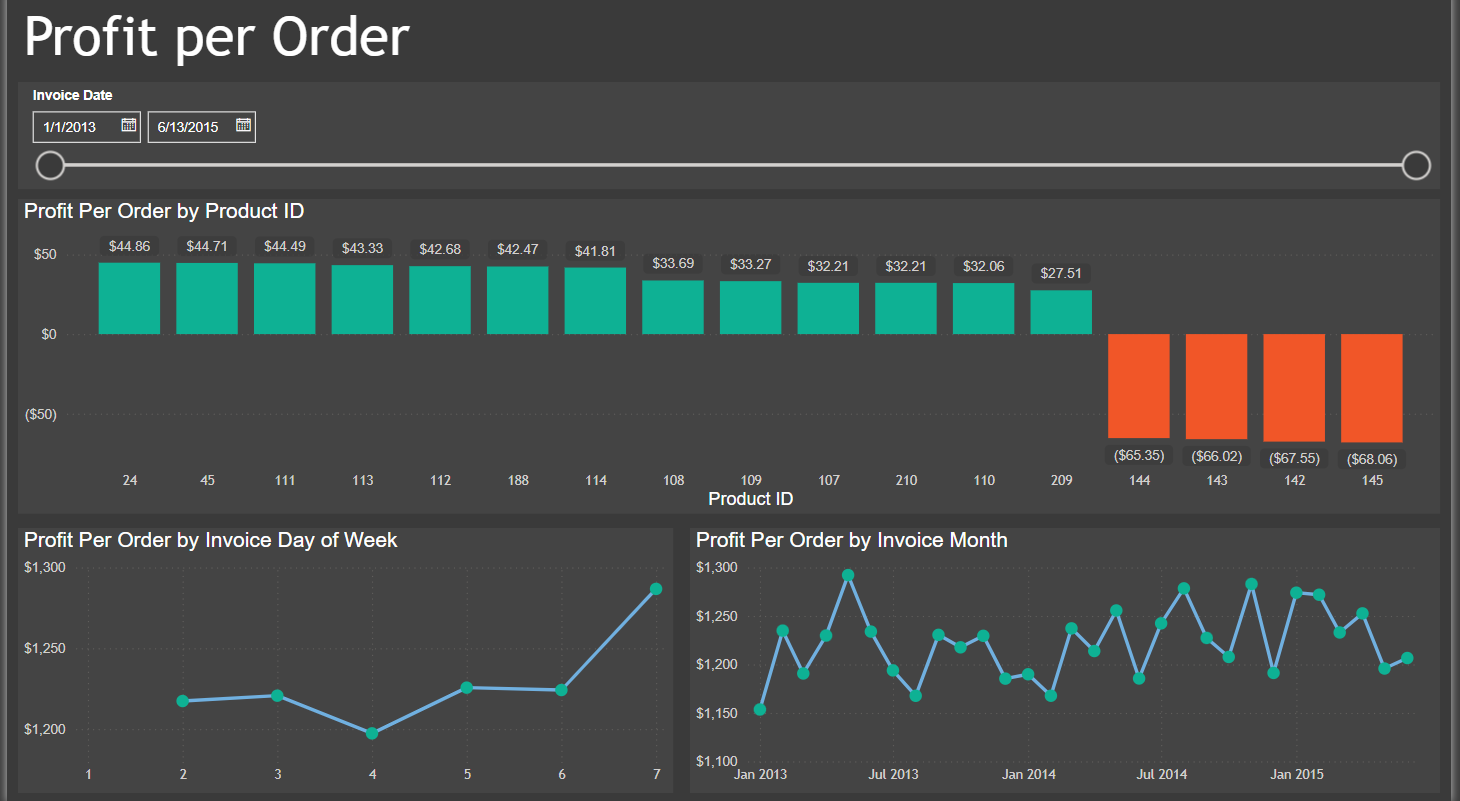

Layout of this report page (visuals, bound fields, positions):
{"tool":"powerbi","page":{"name":"Profit per Order","canvas":[1280,720],"ordinal":1},"visuals":[{"type":"textbox","box":[9.8,7.1,1260.9,73.6],"z":0},{"type":"slicer","fields":{"Values":["DailySalesData.InvoiceDate"]},"box":[9.8,80.7,1260.9,94.9],"z":1000},{"type":"lineStackedColumnComboChart","fields":{"Category":["DailySalesData.StockItemID"],"Y":["DailySalesData.ProfitPerOrder"]},"box":[9.8,184.4,1260.9,279.3],"z":2000},{"type":"lineChart","fields":{"Category":["DailySalesData.InvoiceDOW"],"Y":["DailySalesData.ProfitPerOrder"]},"box":[9.8,476.2,580.8,235],"z":3000},{"type":"lineChart","fields":{"Y":["DailySalesData.ProfitPerOrder"],"Category":["DailySalesData.InvoiceMonthStart","DailySalesData.InvoiceWeekStart","DailySalesData.InvoiceDate"]},"box":[605.6,476.2,665,235],"z":4000}]}

Visuals, with their boxes in screenshot pixels (x1, y1, x2, y2), scaled from the page's 1280x720 canvas onto the 1460x801 screenshot:
textbox: (11, 8, 1449, 90)
slicer - DailySalesData.InvoiceDate: (11, 90, 1449, 195)
lineStackedColumnComboChart - DailySalesData.StockItemID x DailySalesData.ProfitPerOrder: (11, 205, 1449, 516)
lineChart - DailySalesData.InvoiceDOW x DailySalesData.ProfitPerOrder: (11, 530, 674, 791)
lineChart - DailySalesData.ProfitPerOrder x DailySalesData.InvoiceMonthStart: (691, 530, 1449, 791)
